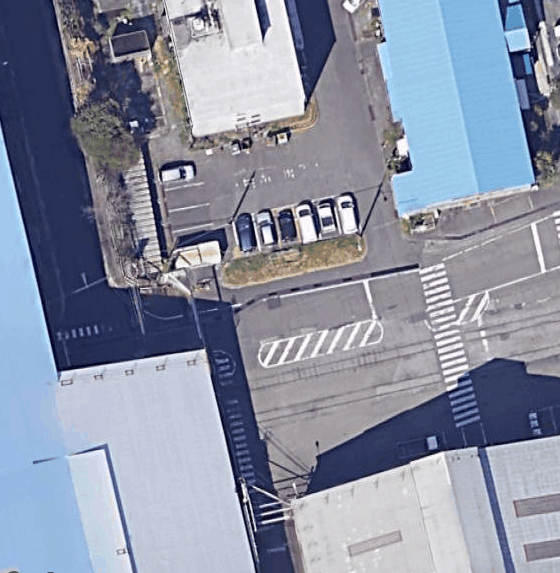rooftop: (160, 0, 309, 124)
